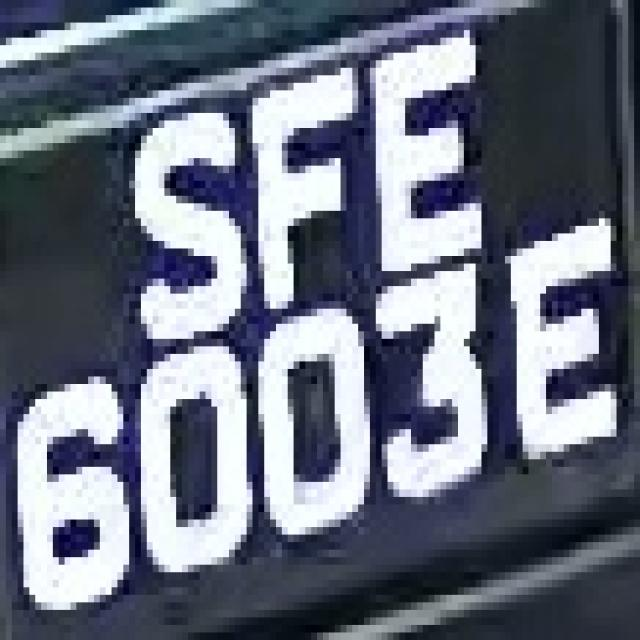0: (235, 316, 376, 557), (112, 362, 258, 588)
3: (347, 279, 499, 512)
6: (18, 346, 141, 625)
E: (493, 226, 628, 482), (358, 38, 493, 286)
F: (235, 60, 364, 294)
S: (111, 83, 246, 346)
